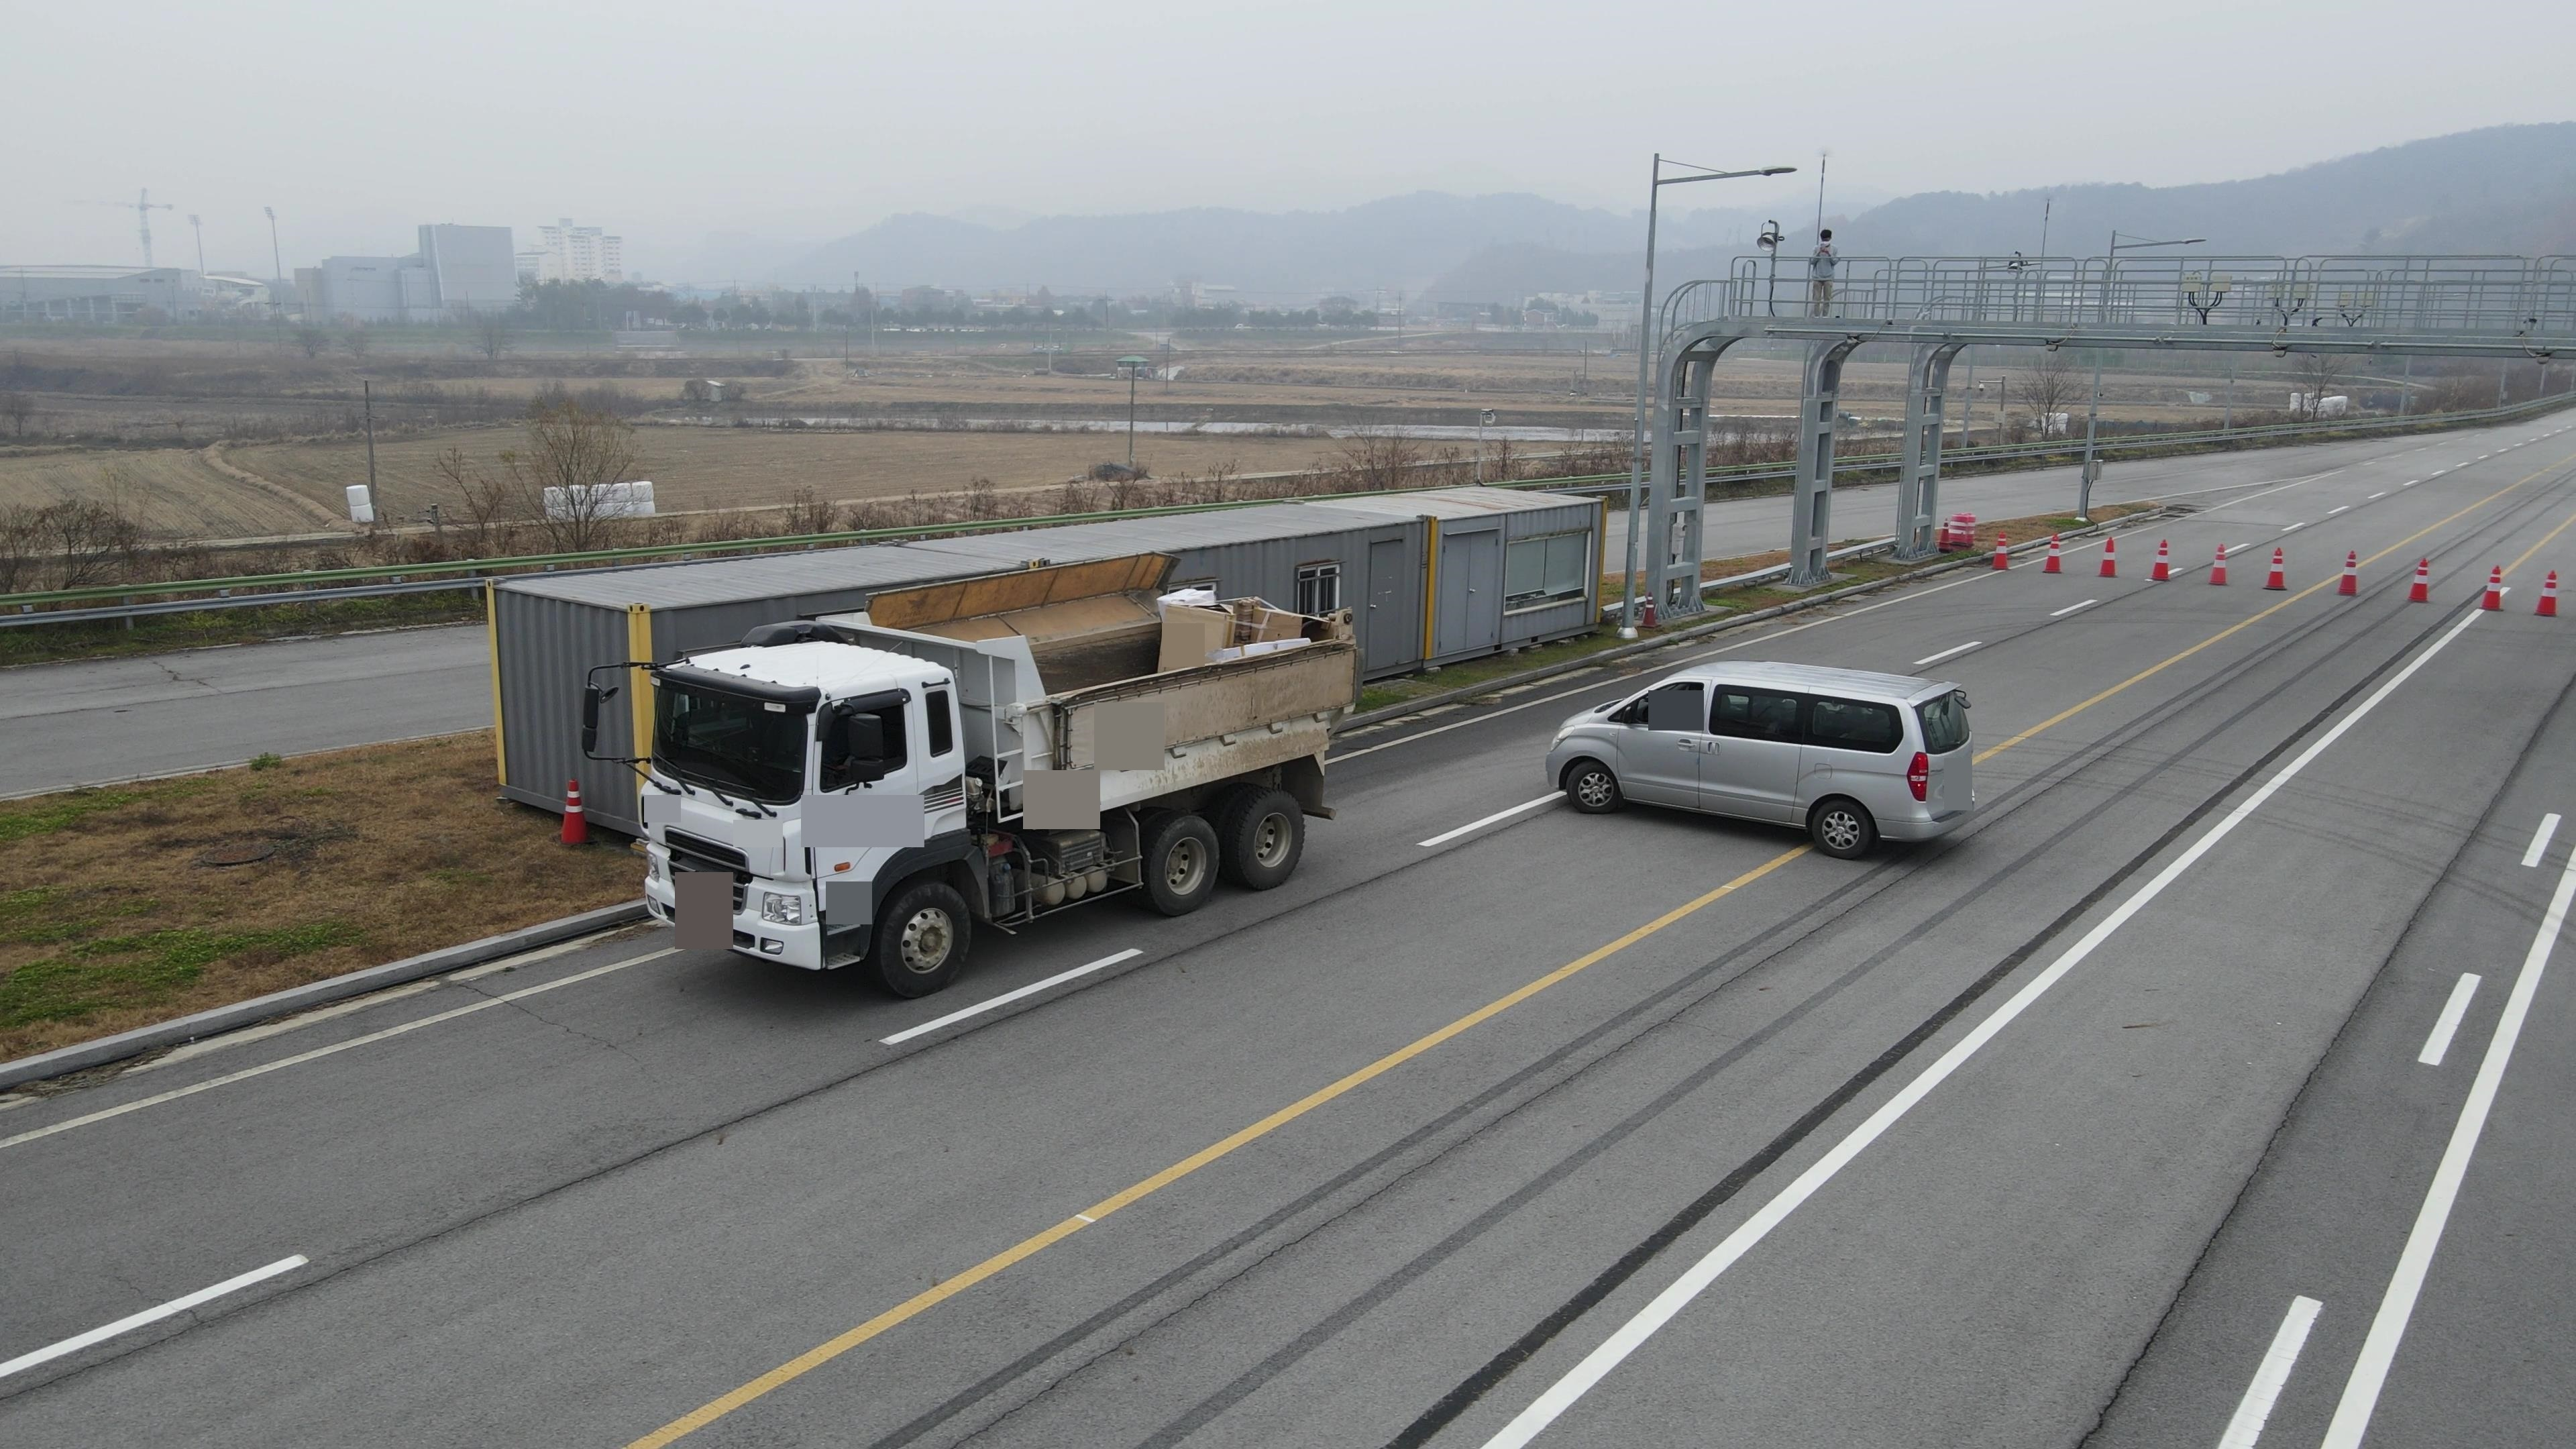불법차량: (583, 551, 1364, 1001)
